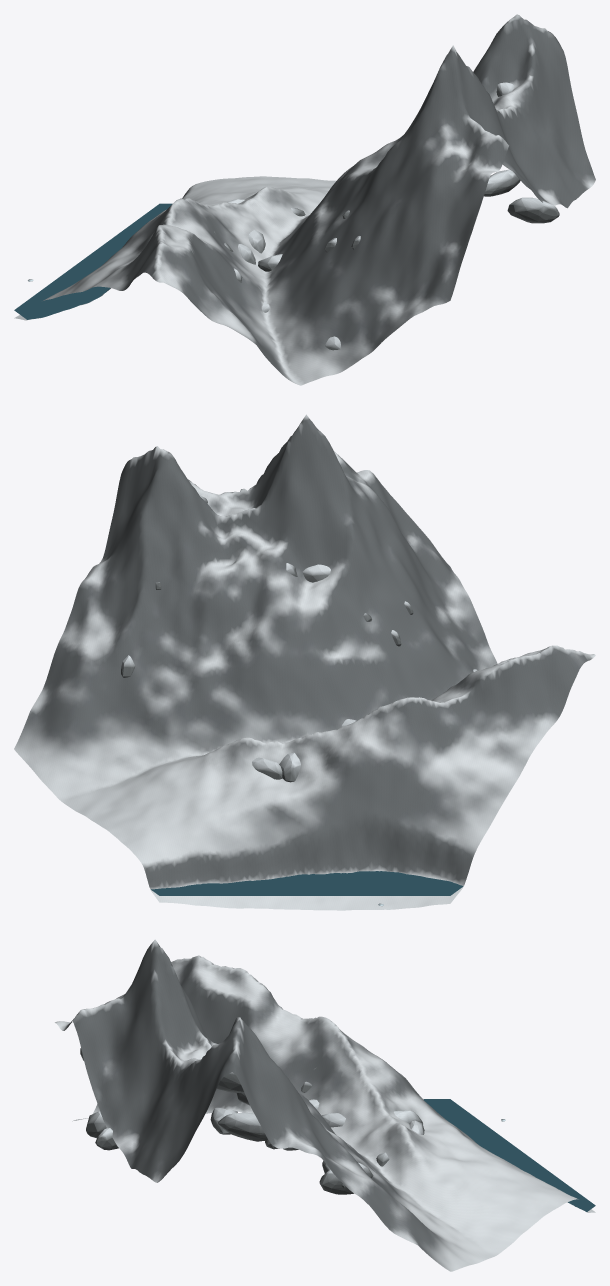
3 renders of one model, top to bottom at view 1: azimuth 30°, elevation 25°; view 2: azimuth 150°, elevation 25°; view 3: azimuth 270°, elevation 25°, orthographic.
Visible parts, largest first — view 1: terrain_v10, supported_bedrock, sea_level_0; view 2: terrain_v10, sea_level_0, supported_bedrock; view 3: terrain_v10, supported_bedrock, sea_level_0.
Boxes of the visible parts, x1,y1,x2,y2 form: terrain_v10: (14, 14, 595, 385); supported_bedrock: (214, 82, 559, 350); sea_level_0: (14, 203, 172, 319); terrain_v10: (14, 414, 595, 910); sea_level_0: (151, 871, 463, 895); supported_bedrock: (121, 495, 477, 782); terrain_v10: (55, 939, 595, 1271); supported_bedrock: (80, 1048, 424, 1194); sea_level_0: (423, 1099, 595, 1211).
Bounding box in the file's own units: 4330 × 3004 × 5000.
Materials: 4 (2 with a texture image).
